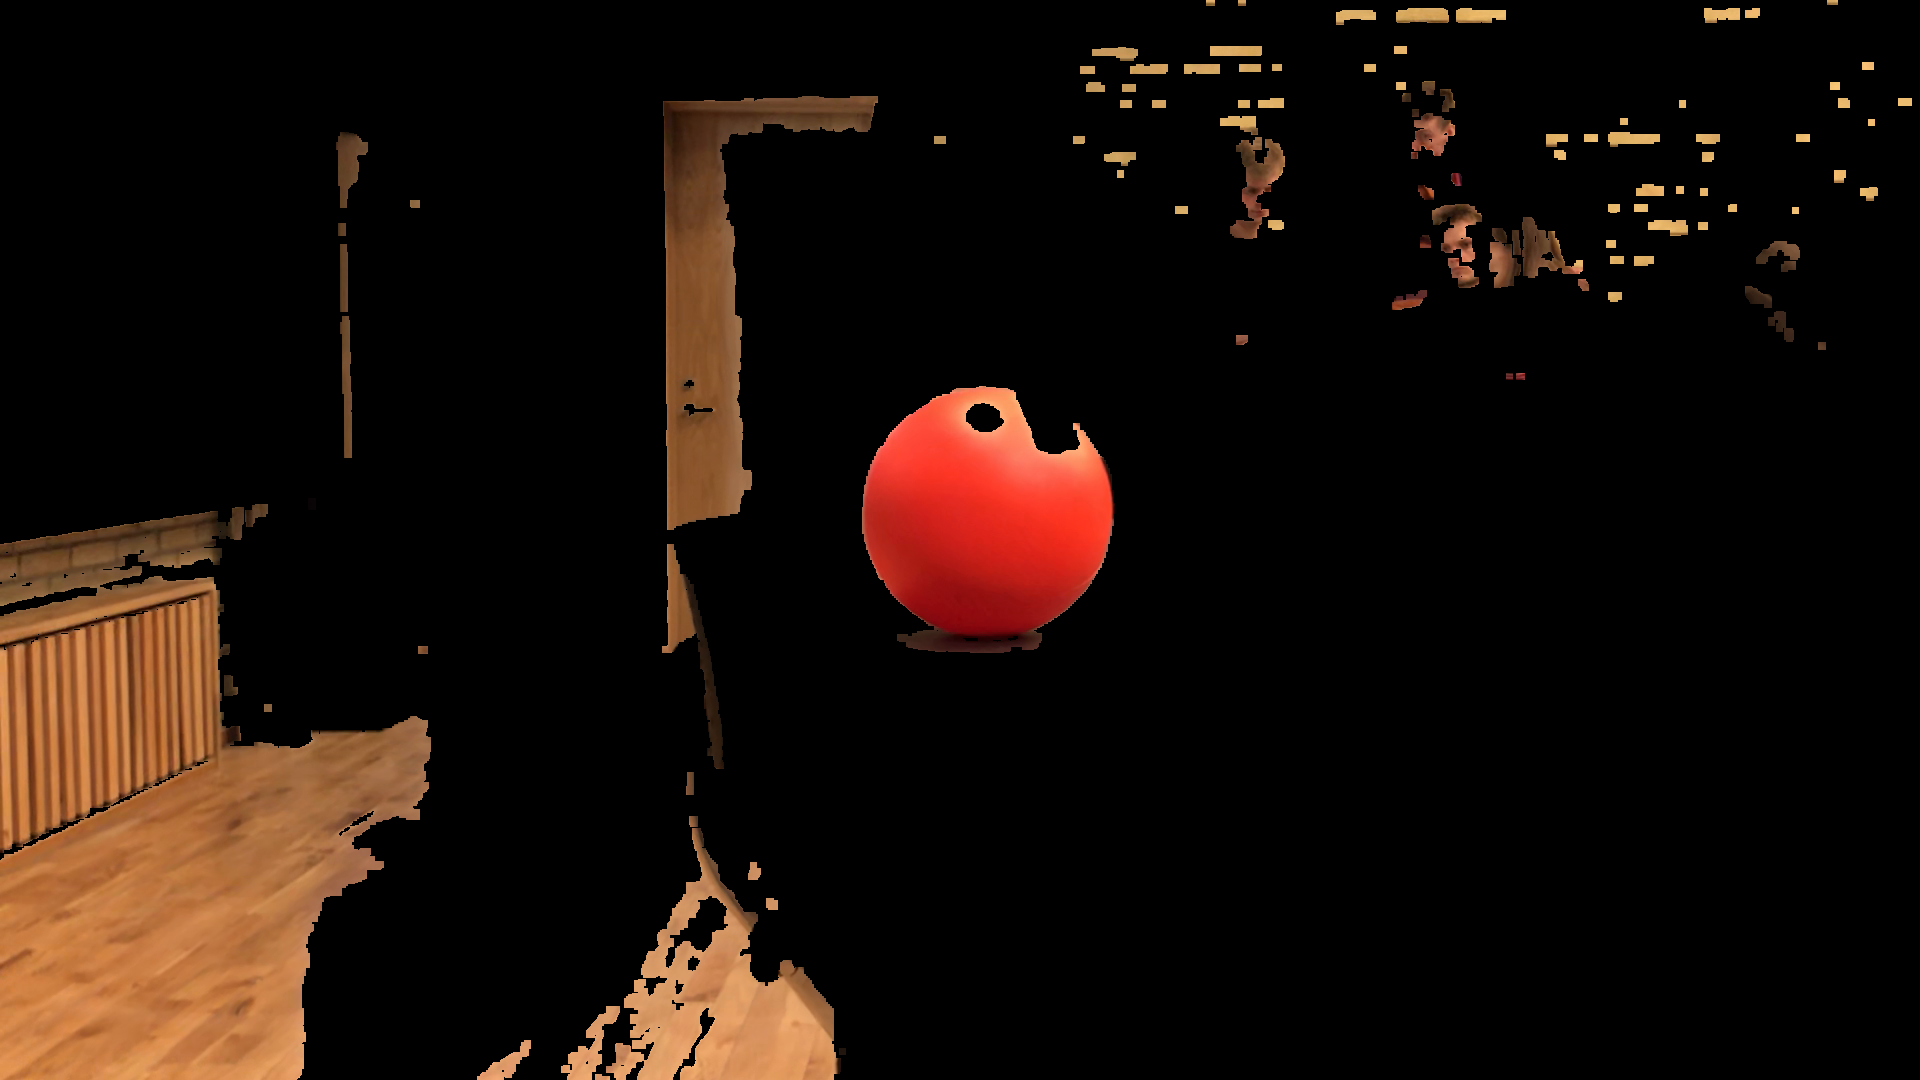Ball: (869, 388, 1116, 634)
